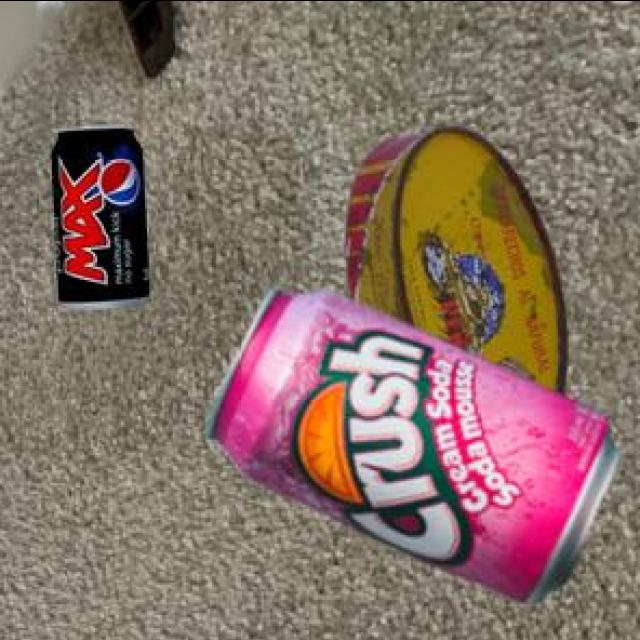logam: (202, 291, 615, 606), (343, 129, 563, 397), (49, 129, 146, 312)
